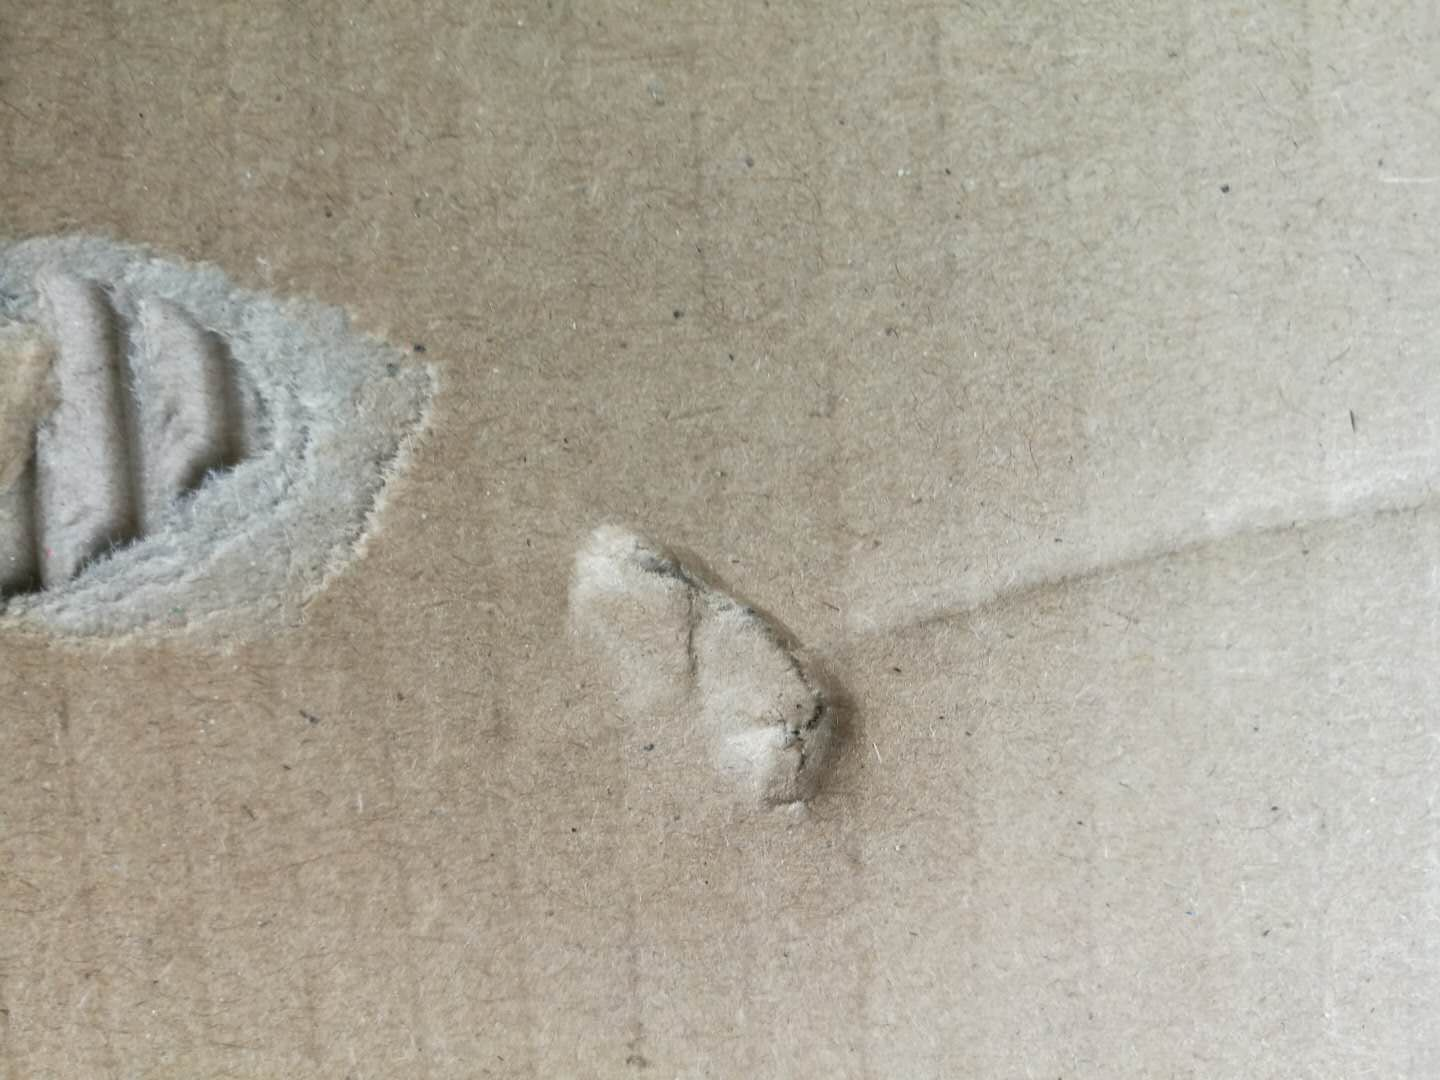defect: (1, 180, 472, 729), (801, 459, 1440, 709), (536, 495, 883, 864)
